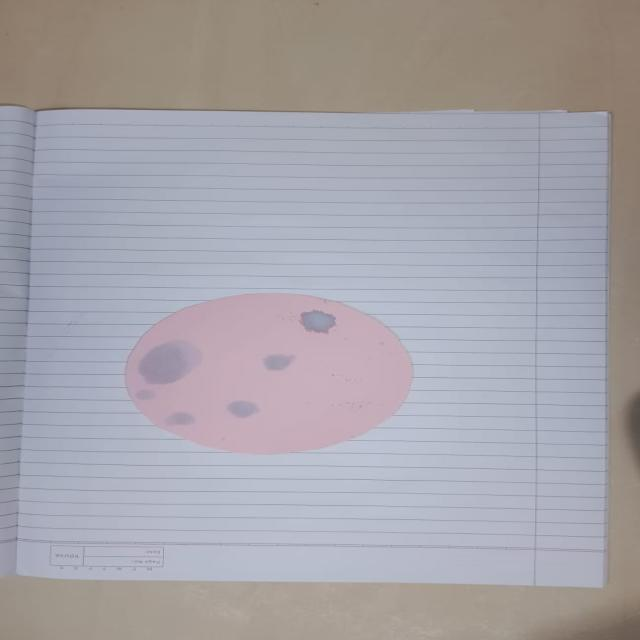BlueColor: (138, 340, 201, 385), (299, 310, 335, 333), (227, 401, 258, 419), (264, 354, 294, 371), (165, 412, 195, 427), (136, 390, 154, 400)
